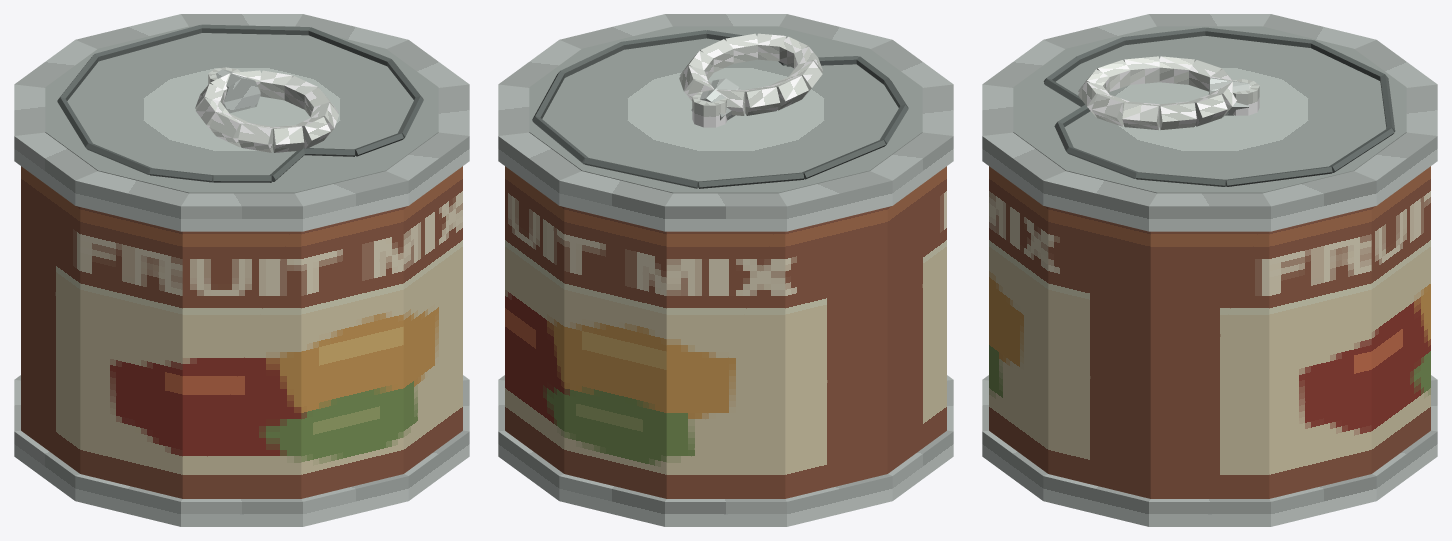
The model's file is apple_canned.glb.
3 views of the same model, side by side, from view 1: azimuth 30°, elevation 25°; view 2: azimuth 150°, elevation 25°; view 3: azimuth 270°, elevation 25° (orthographic).
Parts seen in each view (by area): view 1: block_illustrated wraparound can label, block_recessed easy-open panel, block_rolled steel top, block_rolled steel base, block_pull tab hinge, block_scored lid opening 3, block_scored lid opening 4, block_raised metal pull ring 4, block_raised metal pull ring 3, block_raised metal pull ring 5, block_scored lid opening 5, block_raised metal pull ring 10 (+4 smaller); view 2: block_illustrated wraparound can label, block_recessed easy-open panel, block_rolled steel top, block_rolled steel base, block_scored lid opening 3, block_pull tab rivet, block_raised metal pull ring 7, block_scored lid opening 2, block_raised metal pull ring 6, block_scored lid opening 7, block_scored lid opening 1, block_raised metal pull ring 1 (+6 smaller); view 3: block_illustrated wraparound can label, block_recessed easy-open panel, block_rolled steel top, block_rolled steel base, block_raised metal pull ring 11, block_raised metal pull ring 0, block_scored lid opening 1, block_scored lid opening 5, block_raised metal pull ring 5, block_raised metal pull ring 6, block_raised metal pull ring 10, block_raised metal pull ring 1 (+9 smaller).
Boxes of the visible parts, left/top/right/bottom form: block_illustrated wraparound can label: left=21, top=166, right=462, bottom=498; block_recessed easy-open panel: left=45, top=26, right=438, bottom=193; block_rolled steel top: left=14, top=14, right=469, bottom=231; block_rolled steel base: left=14, top=375, right=469, bottom=526; block_pull tab hinge: left=216, top=69, right=260, bottom=113; block_scored lid opening 3: left=95, top=25, right=201, bottom=61; block_scored lid opening 4: left=201, top=24, right=310, bottom=35; block_raised metal pull ring 4: left=238, top=123, right=273, bottom=152; block_raised metal pull ring 3: left=273, top=125, right=304, bottom=152; block_raised metal pull ring 5: left=209, top=112, right=249, bottom=147; block_scored lid opening 5: left=308, top=27, right=391, bottom=65; block_raised metal pull ring 10: left=260, top=70, right=293, bottom=100; block_illustrated wraparound can label: left=505, top=166, right=946, bottom=498; block_recessed easy-open panel: left=529, top=26, right=922, bottom=193; block_rolled steel top: left=498, top=14, right=953, bottom=231; block_rolled steel base: left=498, top=375, right=953, bottom=526; block_scored lid opening 3: left=584, top=158, right=698, bottom=188; block_pull tab rivet: left=692, top=92, right=727, bottom=127; block_raised metal pull ring 7: left=744, top=86, right=779, bottom=115; block_scored lid opening 2: left=698, top=172, right=804, bottom=188; block_raised metal pull ring 6: left=769, top=75, right=808, bottom=110; block_scored lid opening 7: left=621, top=30, right=706, bottom=49; block_scored lid opening 1: left=802, top=140, right=885, bottom=179; block_raised metal pull ring 1: left=725, top=33, right=757, bottom=63; block_illustrated wraparound can label: left=989, top=166, right=1430, bottom=498; block_recessed easy-open panel: left=1013, top=26, right=1406, bottom=193; block_rolled steel top: left=982, top=14, right=1437, bottom=231; block_rolled steel base: left=982, top=375, right=1437, bottom=526; block_raised metal pull ring 11: left=1159, top=101, right=1196, bottom=129; block_raised metal pull ring 0: left=1122, top=101, right=1159, bottom=129; block_scored lid opening 1: left=1205, top=27, right=1313, bottom=47; block_scored lid opening 5: left=1226, top=166, right=1332, bottom=186; block_raised metal pull ring 5: left=1124, top=56, right=1159, bottom=84; block_raised metal pull ring 6: left=1159, top=56, right=1194, bottom=84; block_raised metal pull ring 10: left=1189, top=94, right=1227, bottom=126; block_raised metal pull ring 1: left=1091, top=94, right=1129, bottom=126.
Size of the model in its own units: 0.068 by 0.0581 by 0.068.
1 material, 1 textured.
